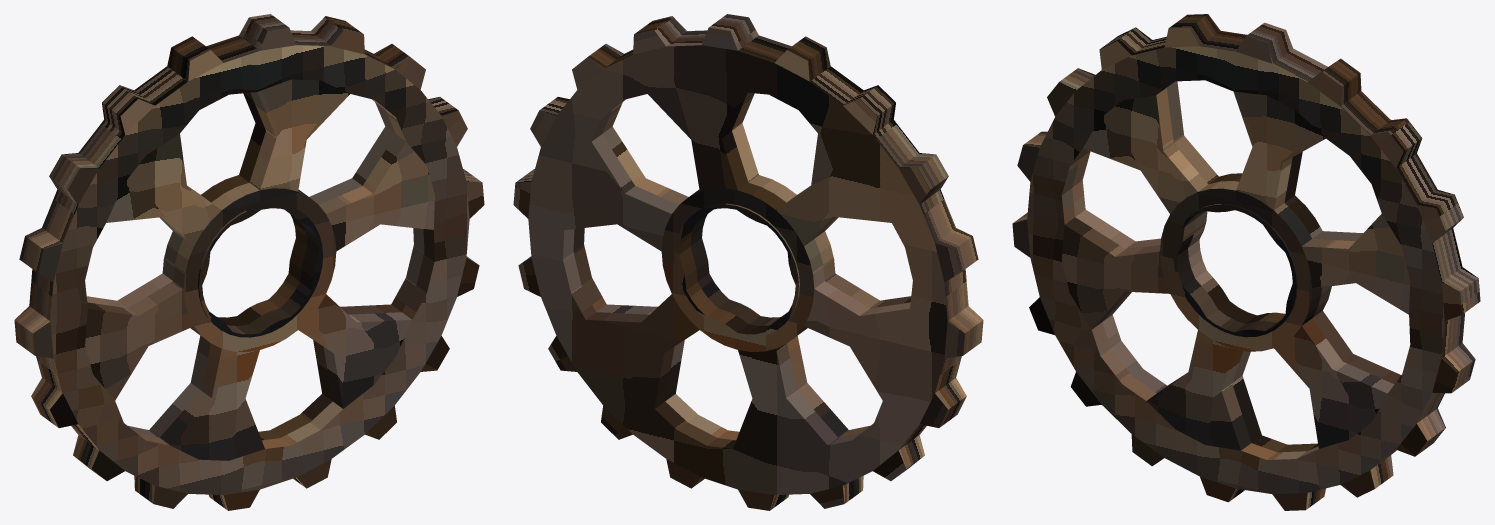
Rendered from Çark.fbx.
3 views of the same model, side by side, from view 1: azimuth 30°, elevation 25°; view 2: azimuth 150°, elevation 25°; view 3: azimuth 330°, elevation 25° (orthographic).
Parts seen in each view (by area): view 1: Cylinder.002; view 2: Cylinder.002; view 3: Cylinder.002.
Boxes of the visible parts, bbox=[...] form: Cylinder.002: bbox=[14, 14, 484, 510]; Cylinder.002: bbox=[513, 14, 983, 510]; Cylinder.002: bbox=[1012, 14, 1480, 510].
Size of the model in its own units: 71.63 by 71.63 by 6.37.
